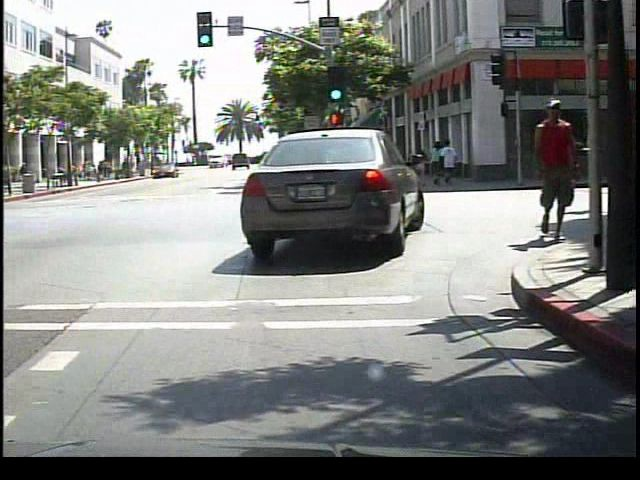person: (520, 91, 581, 251), (12, 157, 30, 189)
